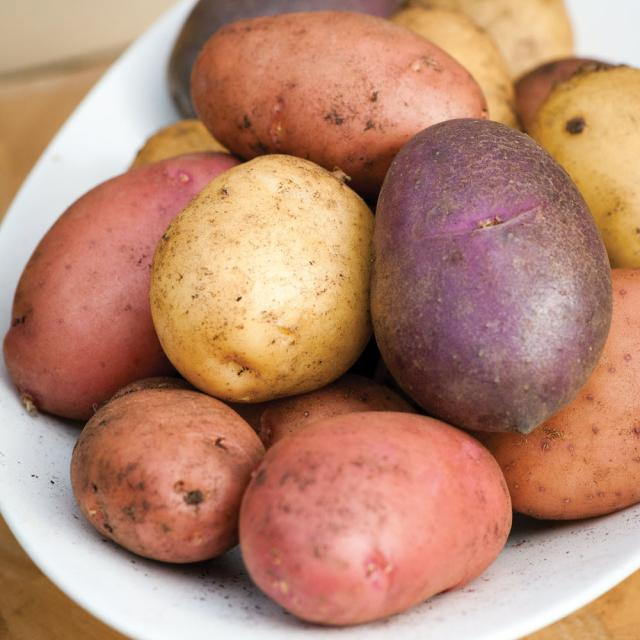potato: (154, 154, 373, 395)
